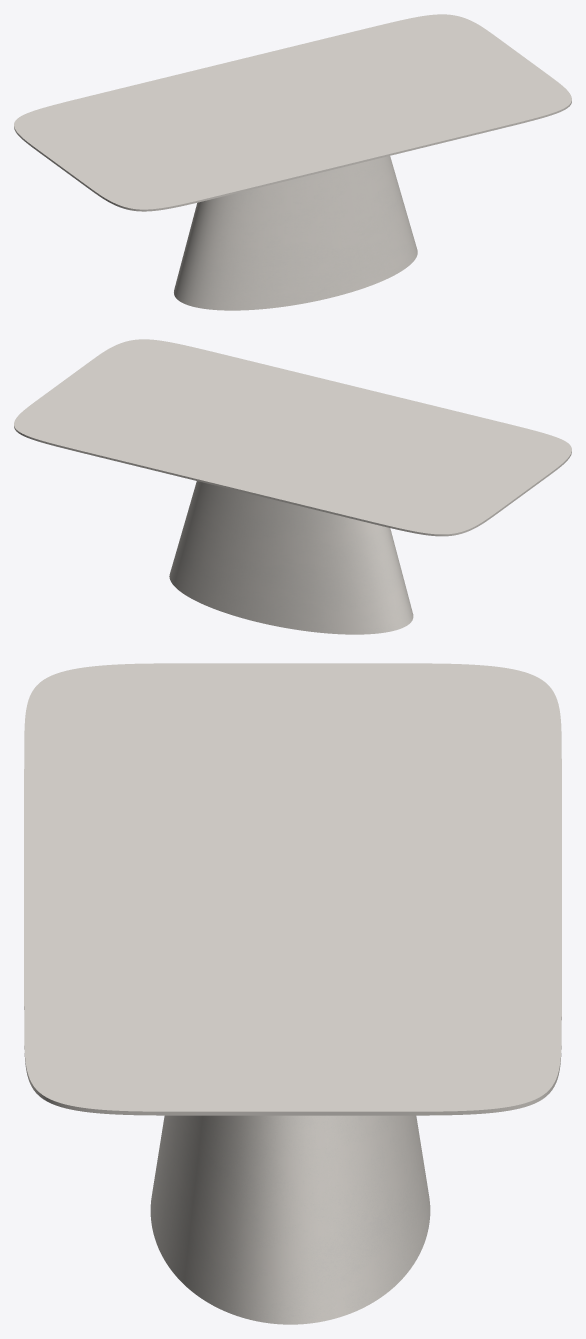
File: purewhite_softrecta_facet_eqone.glb
3 renders of one model, top to bottom at view 1: azimuth 30°, elevation 25°; view 2: azimuth 150°, elevation 25°; view 3: azimuth 270°, elevation 25°, orthographic. The views are drawn at different scales.
Parts seen in each view (by area): view 1: facet_softrecta, eqone; view 2: facet_softrecta, eqone; view 3: facet_softrecta, eqone.
Boxes of the visible parts, x1,y1,x2,y2 form: facet_softrecta: [14, 14, 571, 211]; eqone: [174, 156, 417, 310]; facet_softrecta: [14, 339, 571, 536]; eqone: [169, 481, 413, 634]; facet_softrecta: [24, 663, 561, 1115]; eqone: [150, 1115, 430, 1324].
Bounding box in the file's own units: 7.5 × 2.5 × 3.8.
1 material, 1 textured.
